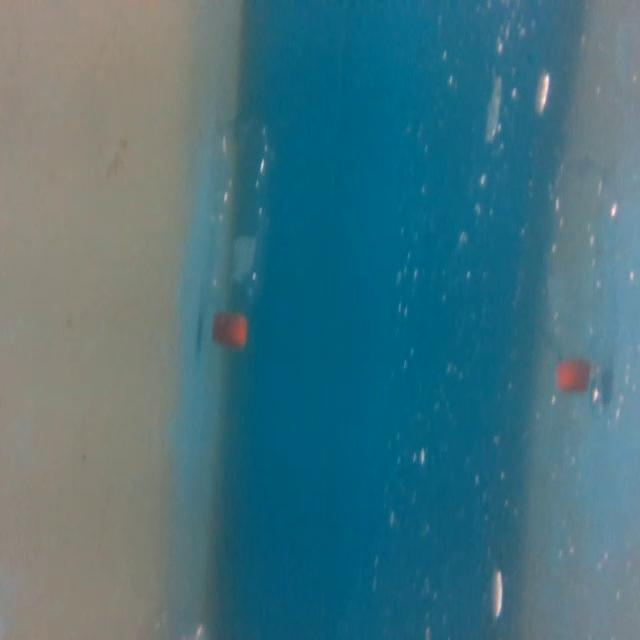plastic bottle: (195, 107, 279, 351)
